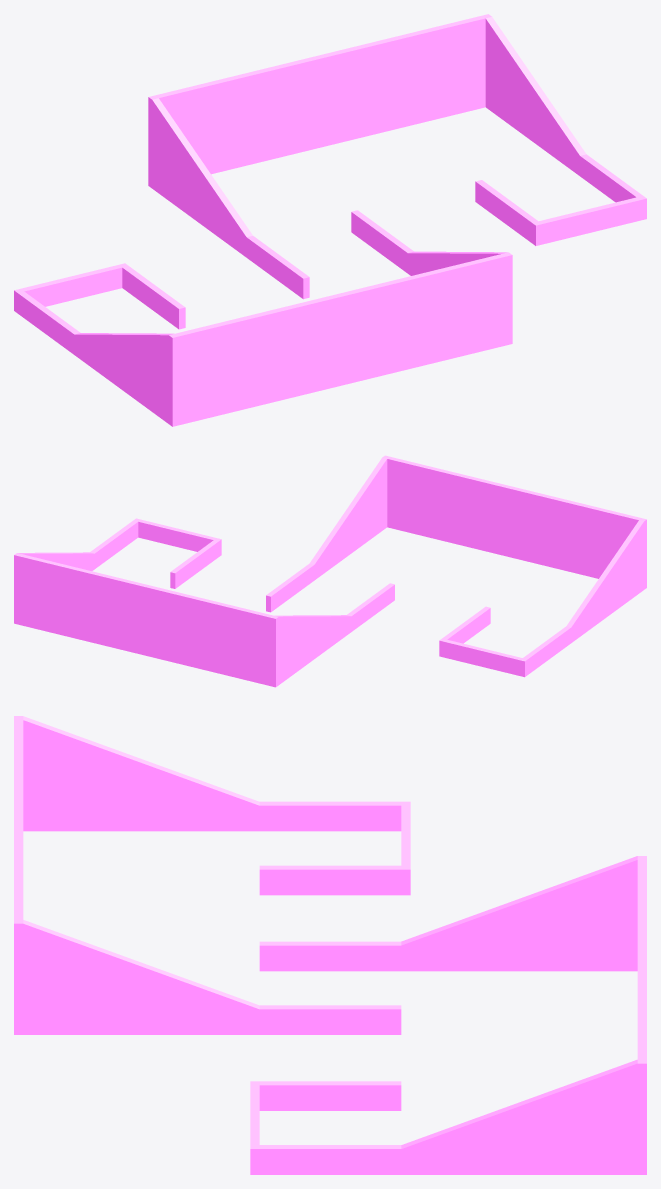
Rendered from Hole 8 Trim.glb.
The picture shows the model from 3 angles, top to bottom: view 1: azimuth 30°, elevation 25°; view 2: azimuth 150°, elevation 25°; view 3: azimuth 270°, elevation 25°; orthographic projection. The views are drawn at different scales.
Parts seen in each view (by area): view 1: Hole 8 Trim; view 2: Hole 8 Trim; view 3: Hole 8 Trim.
Boxes of the visible parts, left/top/right/bottom form: Hole 8 Trim: left=14, top=14, right=646, bottom=426; Hole 8 Trim: left=14, top=455, right=646, bottom=687; Hole 8 Trim: left=14, top=716, right=646, bottom=1174.
Size of what is drawn, in the model's own units: 17.4 by 2.6 by 13.4.
